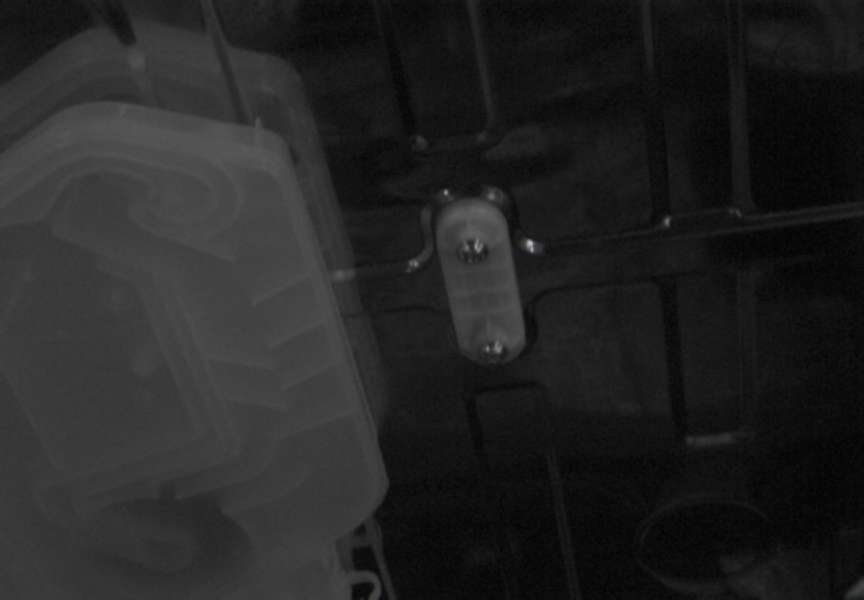screw: (457, 238, 488, 265), (478, 339, 508, 365)
